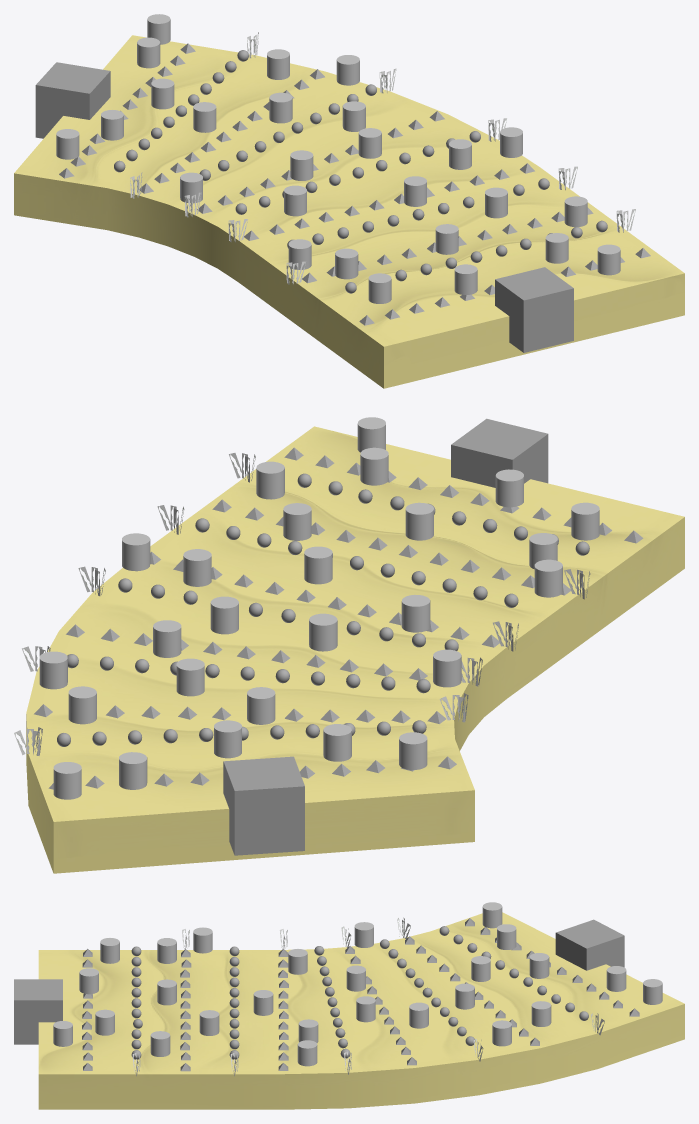
Rendered from assets007_Streckenteil_links002.fbx.
3 views of the same model, one above another, from view 1: azimuth 30°, elevation 25°; view 2: azimuth 150°, elevation 25°; view 3: azimuth 270°, elevation 25° (orthographic). The views are drawn at different scales.
Visible parts, largest first — view 1: streckenteil_linkskurve_geo2, a (×12), b (×10), startpoint, endpoint, c (×4); view 2: streckenteil_linkskurve_geo2, a (×12), b (×10), endpoint, startpoint, c (×4); view 3: streckenteil_linkskurve_geo2, a (×12), b (×10), endpoint, startpoint, c (×4).
Part boxes in pixels (box(x1,y1,x2,y2)): streckenteil_linkskurve_geo2: box(14, 35, 684, 388); a (×12): box(101, 49, 620, 303); b (×10): box(151, 55, 587, 279); startpoint: box(495, 267, 573, 352); endpoint: box(35, 62, 110, 138); c (×4): box(56, 14, 365, 159); streckenteil_linkskurve_geo2: box(26, 426, 684, 873); a (×12): box(68, 417, 599, 761); b (×10): box(39, 461, 557, 758); endpoint: box(223, 756, 304, 855); startpoint: box(451, 418, 548, 487); c (×4): box(53, 620, 427, 799); streckenteil_linkskurve_geo2: box(38, 912, 684, 1109); a (×12): box(53, 924, 551, 1066); b (×10): box(150, 922, 549, 1056); endpoint: box(555, 919, 624, 970); startpoint: box(14, 979, 62, 1044); c (×4): box(409, 902, 662, 1028).
Size of the model in its own units: 40.95 by 6.68 by 68.46.
